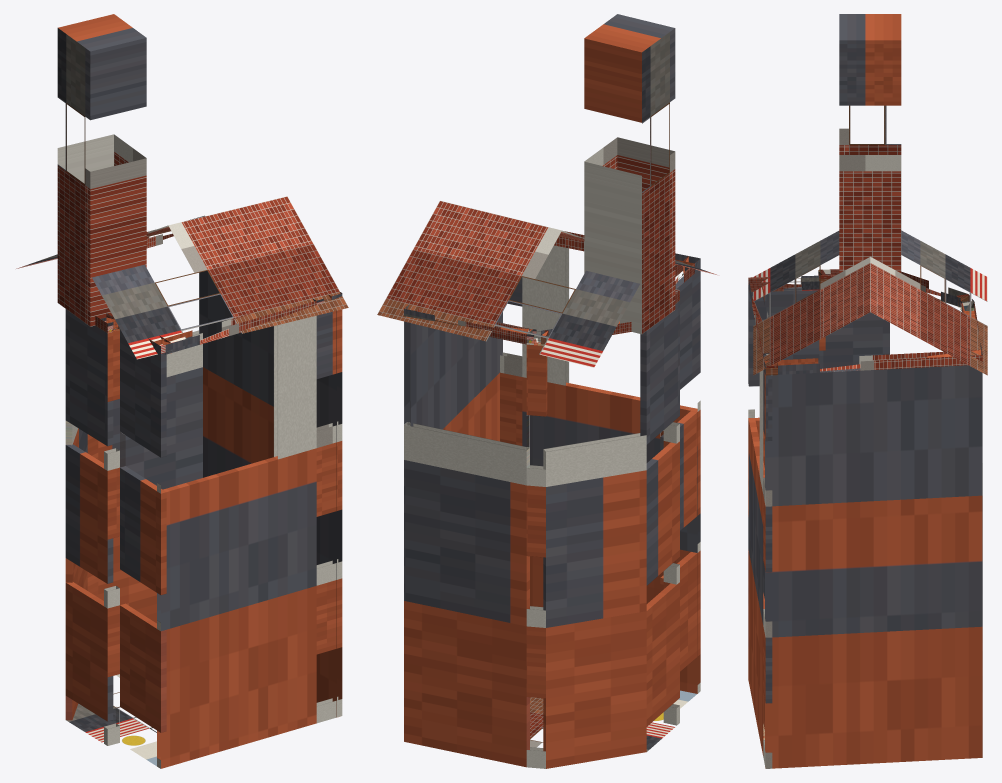
3 renders of one model, left to right at view 1: azimuth 30°, elevation 25°; view 2: azimuth 150°, elevation 25°; view 3: azimuth 270°, elevation 25°, orthographic. The views are drawn at different scales.
Parts seen in each view (by area): view 1: 601806878__wall_5_xb, 601806878__chimney_0_xb, 601806878_roof_-1_xb, 601806878__wall_2_xb, 601806878__wall_7_xb, 601806878__wall_4_xb, 601806878__wall_8_xb, 601806878__wall_6_xb, 601806878__wall_3_xb, 601806878__base, 601806878__cornice_5, 601806878__wall_1_xb; view 2: 601806878__wall_8_xb, 601806878__wall_1_xb, 601806878__chimney_0_xb, 601806878_roof_1_xb, 601806878__wall_5_xb, 601806878__wall_2_xb, 601806878__wall_7_xb, 601806878__wall_4_xb, 601806878__wall_0_xb, 601806878__wall_6_xb, 601806878__base, 601806878__cornice_8 (+2 smaller); view 3: 601806878__wall_7_xb, 601806878__chimney_0_xb, 601806878_roof_1_xb, 601806878_roof_-1_xb, 601806878__wall_5_xb, 601806878__wall_2_xb, 601806878__wall_6_xb, 601806878__cornice_7, 601806878__wall_4_xb, 601806878__cornice_4, 601806878__cornice_1.
Boxes of the visible parts, x1=… form: 601806878__wall_5_xb: x1=157, y1=315, x2=316, y2=768; 601806878__chimney_0_xb: x1=57, y1=14, x2=146, y2=326; 601806878_roof_-1_xb: x1=92, y1=196, x2=348, y2=359; 601806878__wall_2_xb: x1=65, y1=309, x2=113, y2=721; 601806878__wall_7_xb: x1=199, y1=271, x2=342, y2=717; 601806878__wall_4_xb: x1=120, y1=330, x2=166, y2=732; 601806878__wall_8_xb: x1=98, y1=330, x2=202, y2=623; 601806878__wall_6_xb: x1=316, y1=309, x2=342, y2=723; 601806878__wall_3_xb: x1=104, y1=328, x2=119, y2=745; 601806878__base: x1=66, y1=674, x2=156, y2=765; 601806878__cornice_5: x1=153, y1=298, x2=316, y2=355; 601806878__wall_1_xb: x1=65, y1=420, x2=87, y2=720; 601806878__wall_8_xb: x1=404, y1=422, x2=529, y2=767; 601806878__wall_1_xb: x1=543, y1=433, x2=646, y2=768; 601806878__chimney_0_xb: x1=584, y1=14, x2=675, y2=334; 601806878_roof_1_xb: x1=377, y1=201, x2=639, y2=367; 601806878__wall_5_xb: x1=522, y1=245, x2=700, y2=693; 601806878__wall_2_xb: x1=640, y1=300, x2=679, y2=726; 601806878__wall_7_xb: x1=404, y1=312, x2=502, y2=441; 601806878__wall_4_xb: x1=660, y1=270, x2=700, y2=671; 601806878__wall_0_xb: x1=526, y1=342, x2=547, y2=768; 601806878__wall_6_xb: x1=500, y1=277, x2=522, y2=445; 601806878__base: x1=530, y1=690, x2=696, y2=751; 601806878__cornice_8: x1=404, y1=304, x2=532, y2=344; 601806878__wall_7_xb: x1=765, y1=365, x2=982, y2=768; 601806878__chimney_0_xb: x1=839, y1=14, x2=901, y2=273; 601806878_roof_1_xb: x1=870, y1=230, x2=987, y2=375; 601806878_roof_-1_xb: x1=753, y1=231, x2=870, y2=375; 601806878__wall_5_xb: x1=748, y1=370, x2=764, y2=755; 601806878__wall_2_xb: x1=819, y1=312, x2=889, y2=368; 601806878__wall_6_xb: x1=763, y1=370, x2=772, y2=768; 601806878__cornice_7: x1=764, y1=350, x2=982, y2=374; 601806878__wall_4_xb: x1=748, y1=287, x2=819, y2=647; 601806878__cornice_4: x1=748, y1=275, x2=819, y2=291; 601806878__cornice_1: x1=901, y1=271, x2=968, y2=307.
Size of the model in its own units: 0.568 by 1.75 by 0.5782.
1 material, 1 textured.
